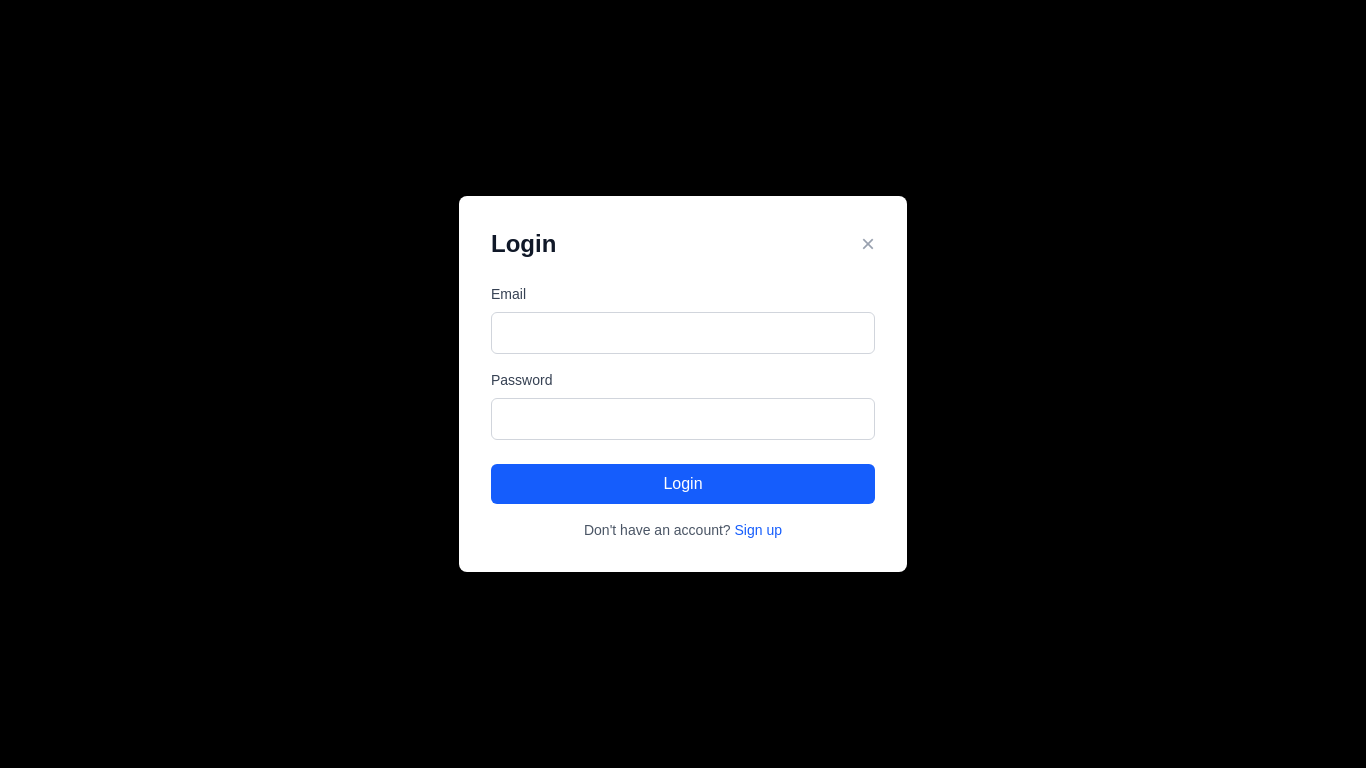
Test: LoginModal › shows an error message when login fails
Step 1. Type "test@example.com" into the field labelled "Email" → [683, 333], box [491,312,875,354]
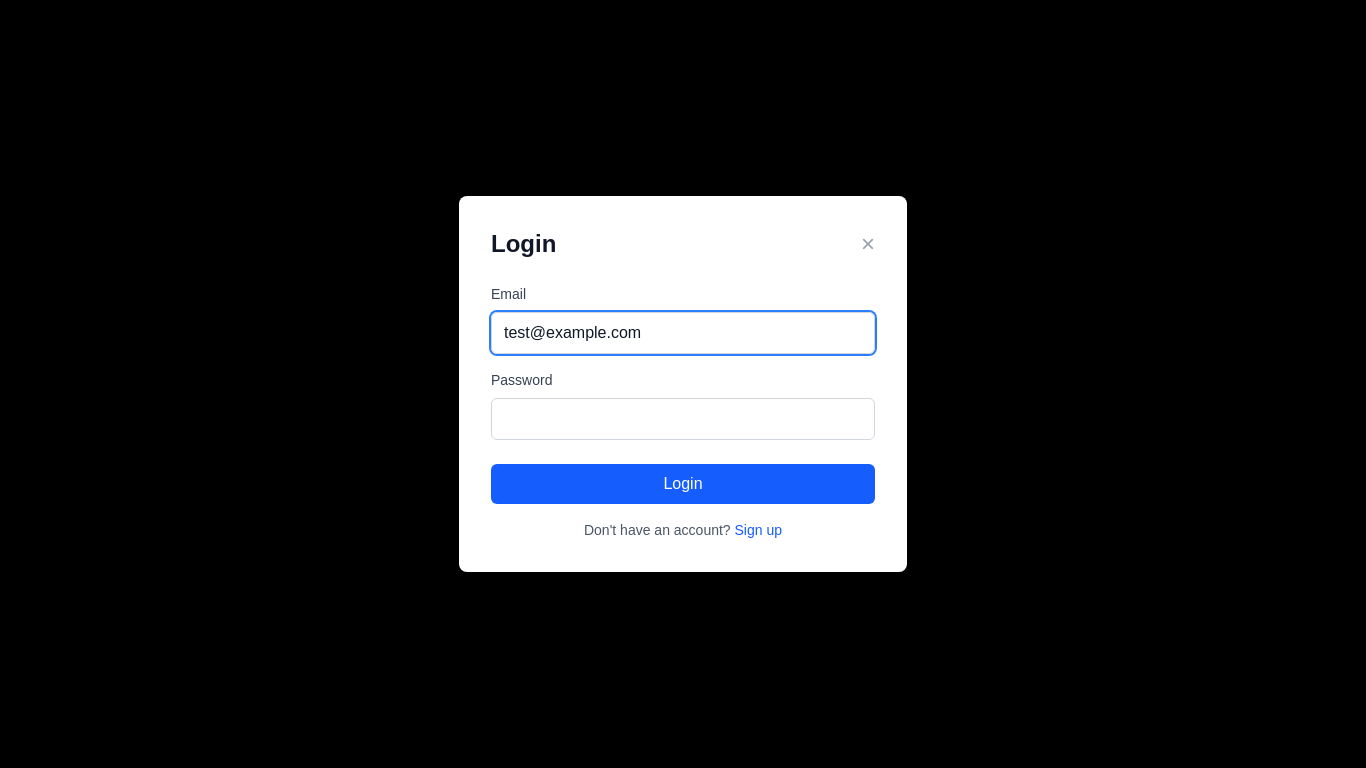
Step 2. Type "wrongpass" into the password field labelled "Password" → [683, 419], box [491,398,875,440]
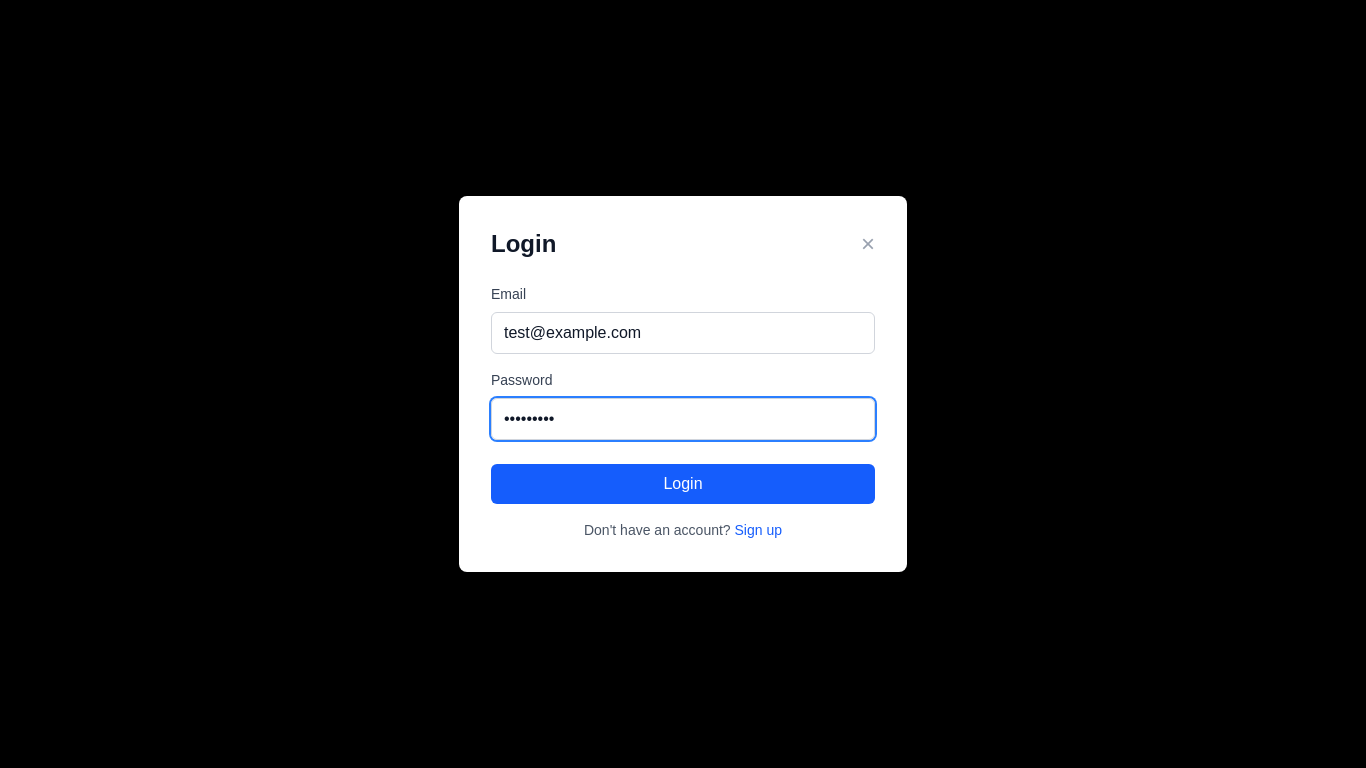
Step 3. Click the button "Login" → [683, 484], box [491,464,875,504]
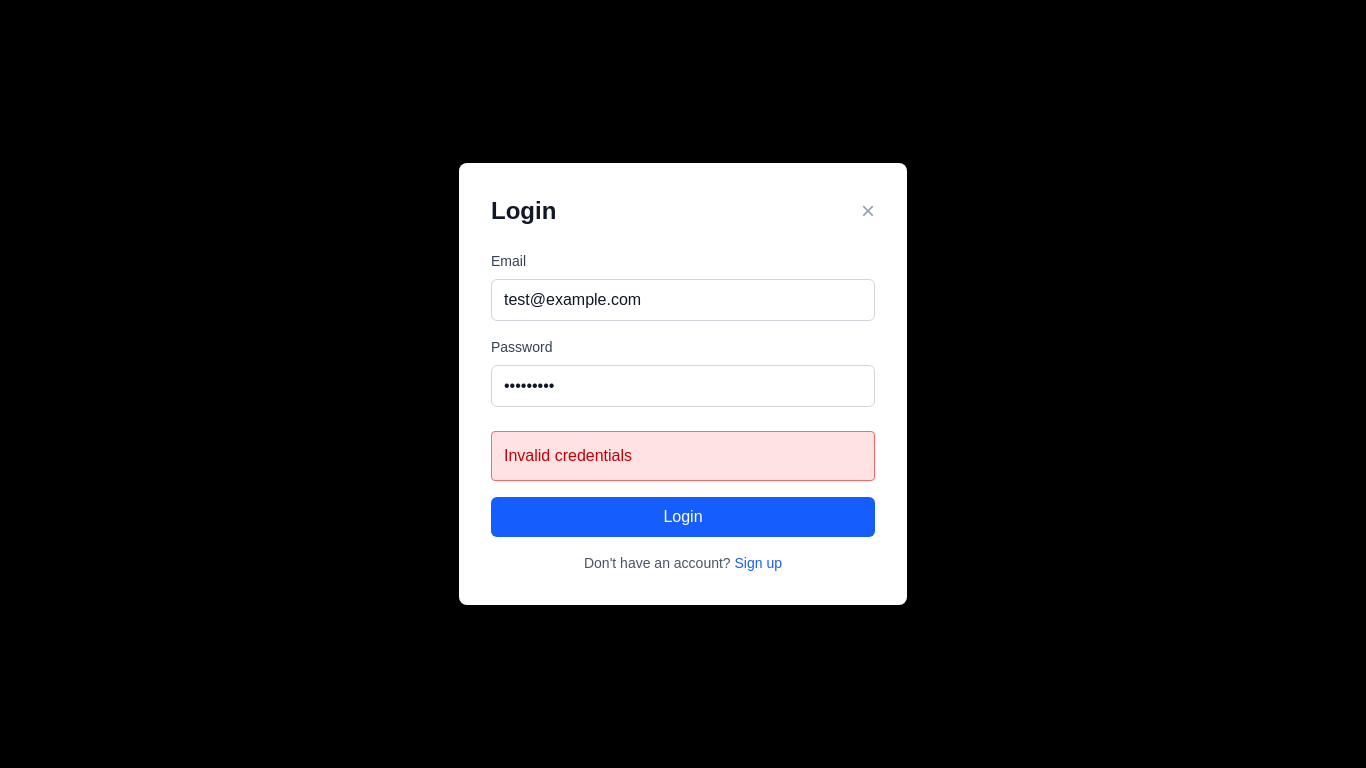
expect the text "Invalid credentials" is shown: met, box [491,431,875,481]
